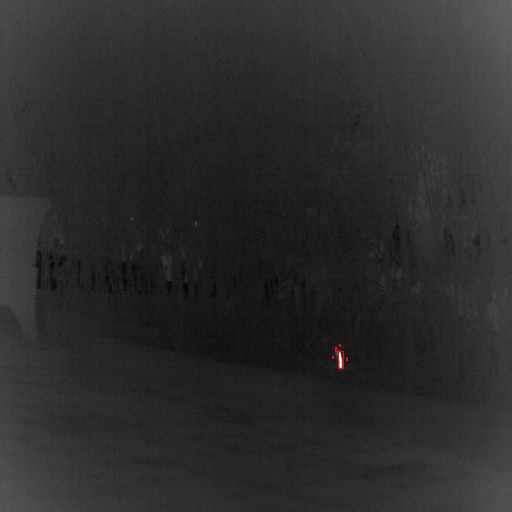Target: (338, 351, 343, 368), (335, 347, 336, 351), (346, 357, 347, 360), (339, 344, 340, 346), (332, 356, 333, 358)
